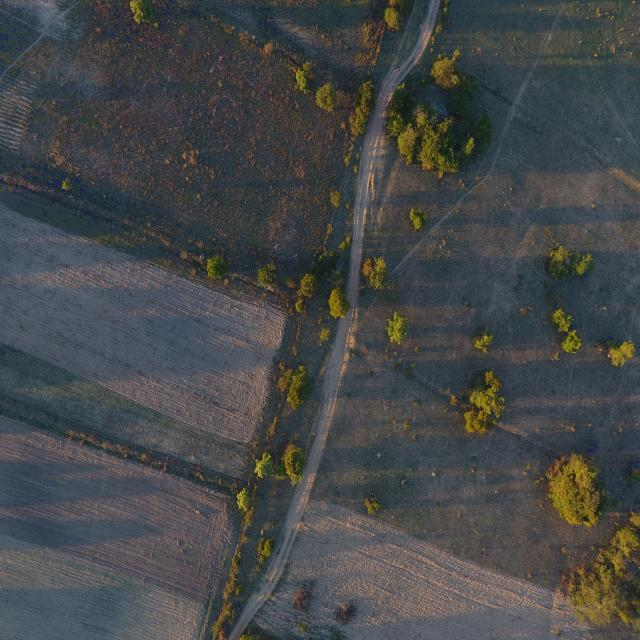boundaries: (7, 171, 332, 626)
